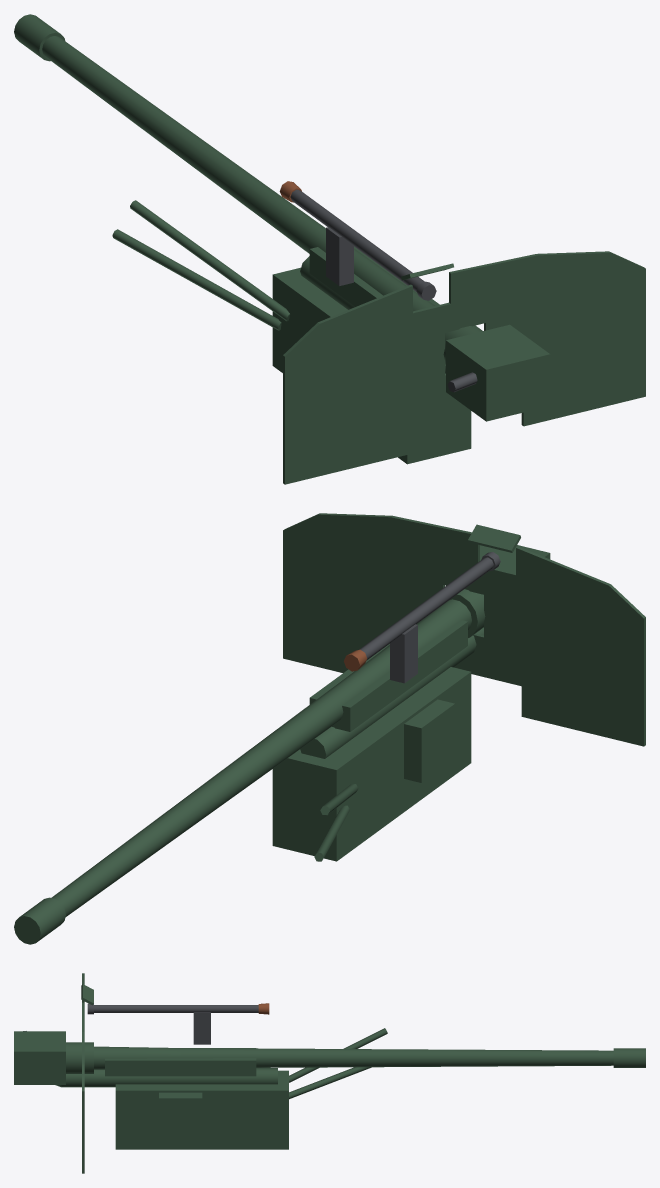
The model's file is type1_47mm.obj.
3 views of the same model, one above another, from view 1: azimuth 30°, elevation 25°; view 2: azimuth 150°, elevation 25°; view 3: azimuth 270°, elevation 25° (orthographic). The views are drawn at different scales.
Visible parts, largest first — view 1: turret_0, barrel_0, turret_1; view 2: turret_0, barrel_0, turret_1; view 3: turret_0, barrel_0, turret_1.
Part boxes in pixels (x1=…): turret_0: x1=112, y1=200, x2=645, y2=484; barrel_0: x1=14, y1=14, x2=550, y2=421; turret_1: x1=290, y1=189, x2=436, y2=300; turret_0: x1=272, y1=513, x2=645, y2=861; barrel_0: x1=14, y1=545, x2=550, y2=944; turret_1: x1=359, y1=552, x2=500, y2=683; turret_0: x1=55, y1=973, x2=387, y2=1173; barrel_0: x1=14, y1=1031, x2=645, y2=1084; turret_1: x1=87, y1=1003, x2=258, y2=1044.
Size of the model in its own units: 1.24 by 0.7052 by 2.92.
